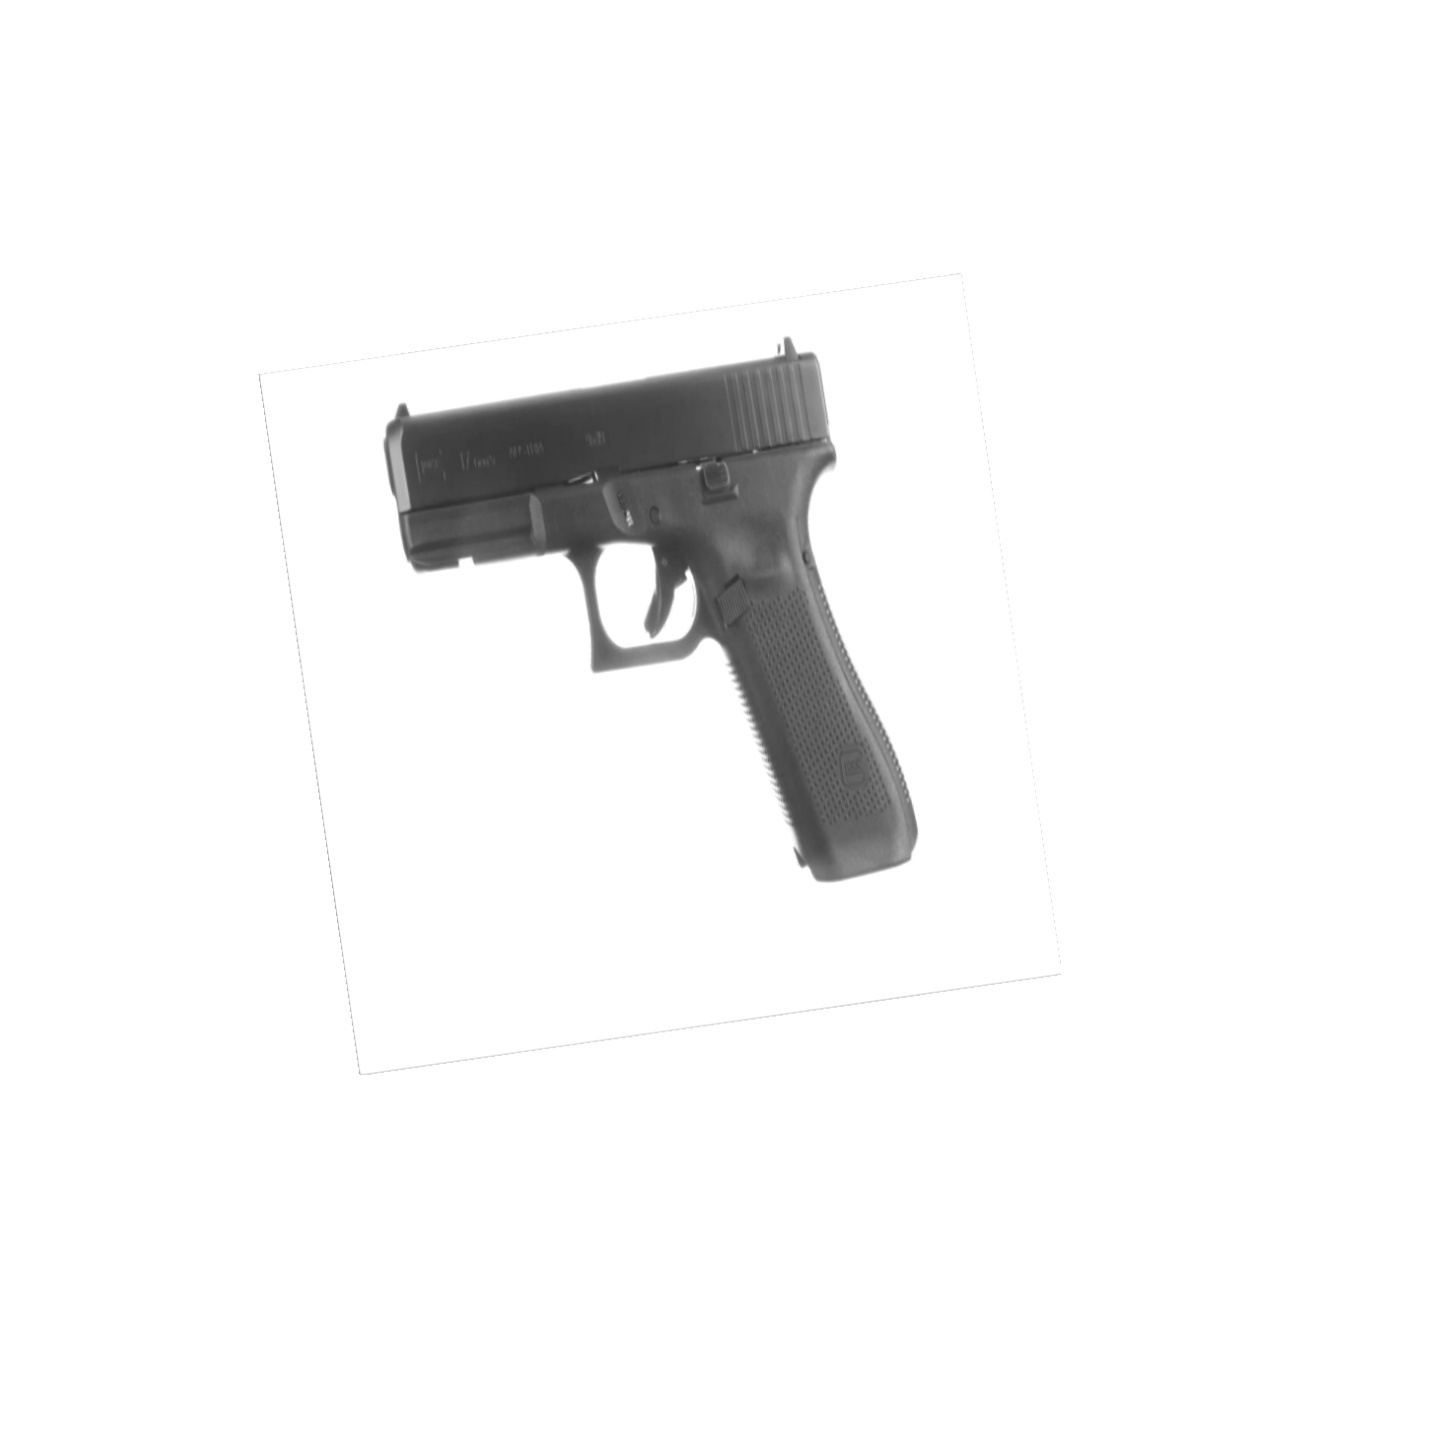gun: (381, 334, 919, 880)
